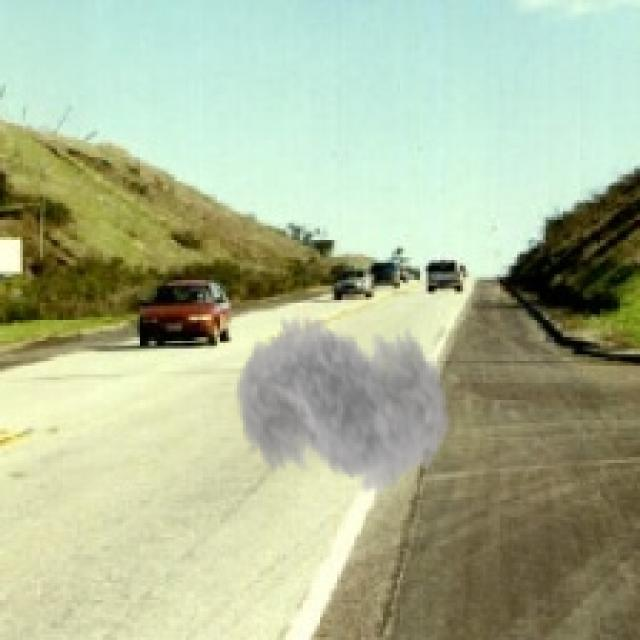smoke: (234, 292, 452, 512)
